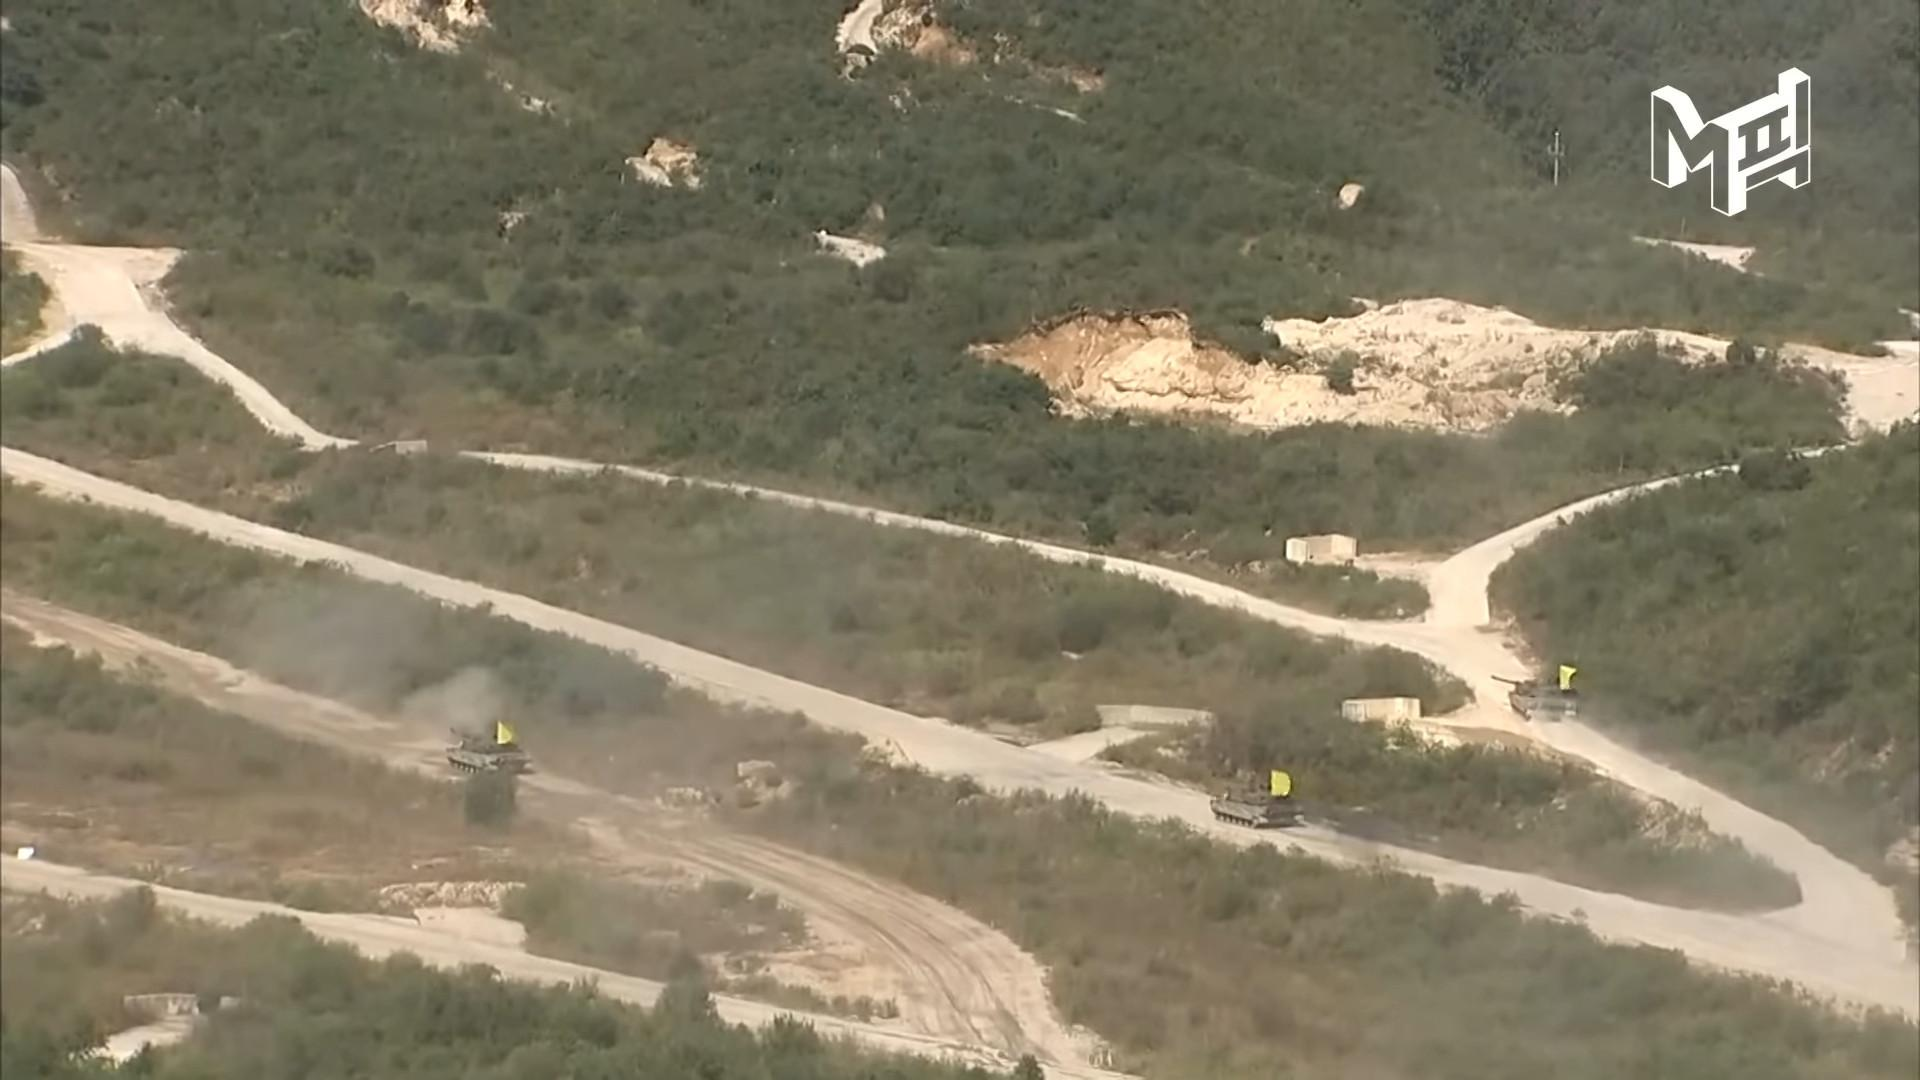tank: (1205, 770, 1304, 828), (1491, 674, 1584, 725), (446, 728, 533, 775)
